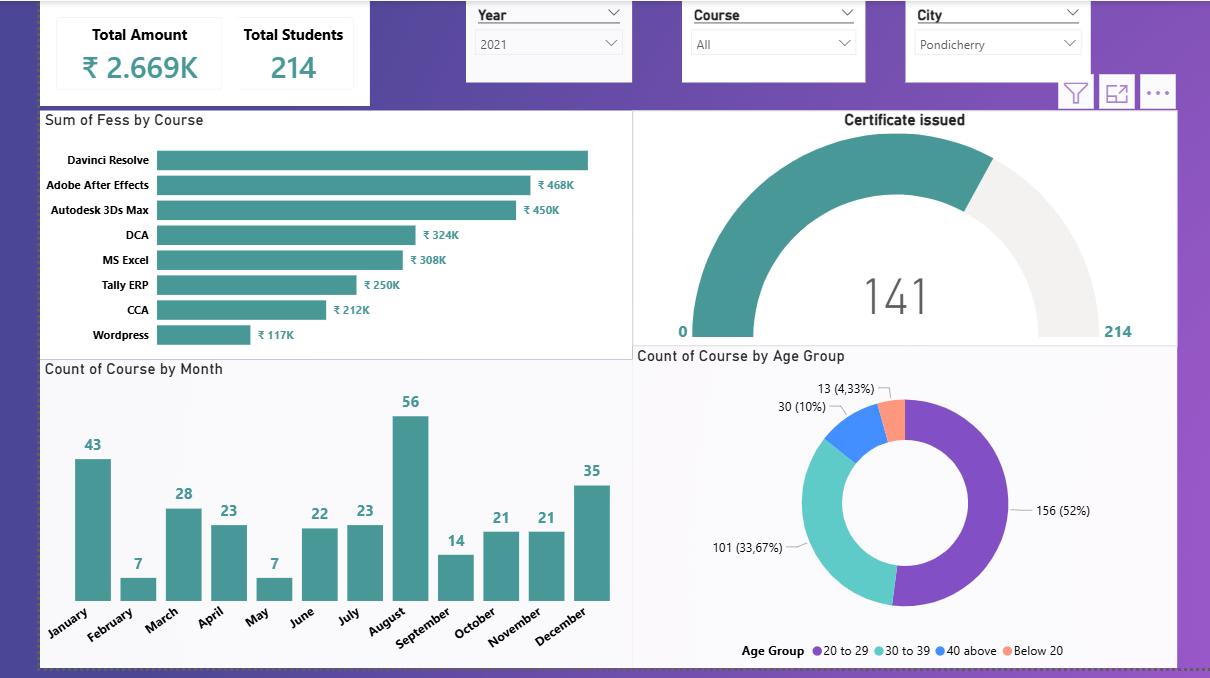

What the dashboard file says about the page in this screenshot:
{"tool":"powerbi","page":{"name":"Abc report","canvas":[1280,720],"ordinal":0},"visuals":[{"type":"clusteredColumnChart","fields":{"Category":["Student Course Details.Date of Join.Variation.Date Hierarchy.Year","Student Course Details.Date of Join.Variation.Date Hierarchy.Quarter","Student Course Details.Date of Join.Variation.Date Hierarchy.Month","Student Course Details.Date of Join.Variation.Date Hierarchy.Day"],"Y":["Student Course Details.Course"]},"box":[0,386.7,640,333.3],"z":0},{"type":"donutChart","fields":{"Y":["Student Course Details.Course"],"Category":["Student Course Details.Age Group"]},"box":[639.6,372.4,587.8,348.1],"z":1000},{"type":"clusteredBarChart","fields":{"Category":["Student Course Details.Course"],"Y":["Student Course Details.Fess"]},"box":[0,118.2,639.6,268.8],"z":2000},{"type":"cardVisual","fields":{"Data":["Personal details.Student Name"]},"box":[190,0,166.7,113.3],"z":3000},{"type":"cardVisual","fields":{"Data":["Student Course Details.Fess"]},"box":[0,0,213.3,113.3],"z":4000},{"type":"gauge","fields":{"Y":["Personal details.countYes"]},"box":[639.6,118.2,587.8,254.2],"z":5000},{"type":"slicer","fields":{"Values":["Student Course Details.Date of Join.Variation.Date Hierarchy.Year"]},"box":[460.3,0,179.3,87.9],"z":6000},{"type":"slicer","fields":{"Values":["Student Course Details.Course"]},"box":[693.1,0,198.3,87.9],"z":7000},{"type":"slicer","fields":{"Values":["Personal details.City"]},"box":[934.5,0,200,87.9],"z":8000}]}

Visuals, with their boxes in screenshot pixels (x1, y1, x2, y2), scaled from the page's 1280x720 canvas onto the 1210x678 screenshot:
clusteredColumnChart - Student Course Details.Date of Join.Variation.Date Hierarchy.Year x Student Course Details.Date of Join.Variation.Date Hierarchy.Quarter: BBox(0, 364, 605, 677)
donutChart - Student Course Details.Course x Student Course Details.Age Group: BBox(605, 351, 1160, 677)
clusteredBarChart - Student Course Details.Course x Student Course Details.Fess: BBox(0, 111, 605, 364)
cardVisual - Personal details.Student Name: BBox(180, 0, 337, 107)
cardVisual - Student Course Details.Fess: BBox(0, 0, 202, 107)
gauge - Personal details.countYes: BBox(605, 111, 1160, 351)
slicer - Student Course Details.Date of Join.Variation.Date Hierarchy.Year: BBox(435, 0, 605, 83)
slicer - Student Course Details.Course: BBox(655, 0, 843, 83)
slicer - Personal details.City: BBox(883, 0, 1072, 83)
